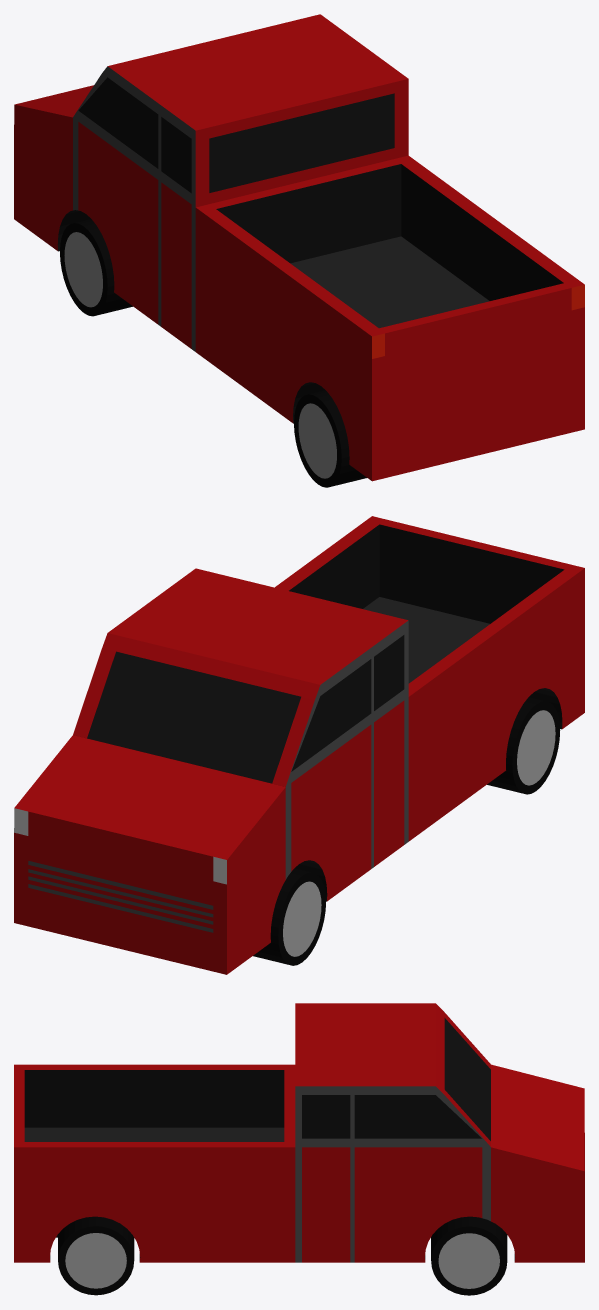
File: truck.obj
3 views of the same model, one above another, from view 1: azimuth 30°, elevation 25°; view 2: azimuth 150°, elevation 25°; view 3: azimuth 270°, elevation 25° (orthographic). The views are drawn at different scales.
Visible parts, largest first — view 1: Cube, Cylinder.002_Cylinder.003; view 2: Cube, Cylinder.002_Cylinder.003; view 3: Cube, Cylinder.002_Cylinder.003.
Boxes of the visible parts, box(x1,y1,x2,y2) form: Cube: box(14, 14, 584, 481); Cylinder.002_Cylinder.003: box(60, 219, 366, 487); Cube: box(14, 516, 584, 974); Cylinder.002_Cylinder.003: box(253, 697, 560, 965); Cube: box(14, 1003, 584, 1262); Cylinder.002_Cylinder.003: box(58, 1216, 507, 1295).
Size of the model in its own units: 2.04 by 2.35 by 5.83.
